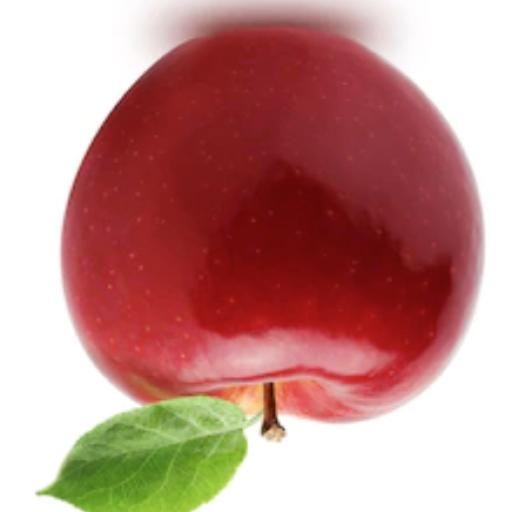apple: (62, 27, 481, 421)
